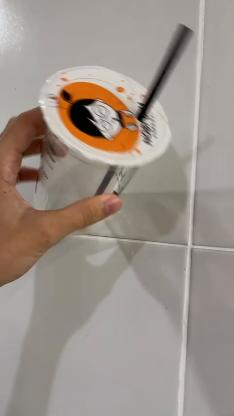Plastic Cup: (33, 65, 169, 227)
